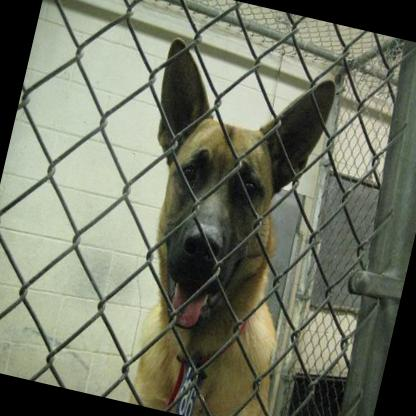malinois: (88, 34, 347, 416)
